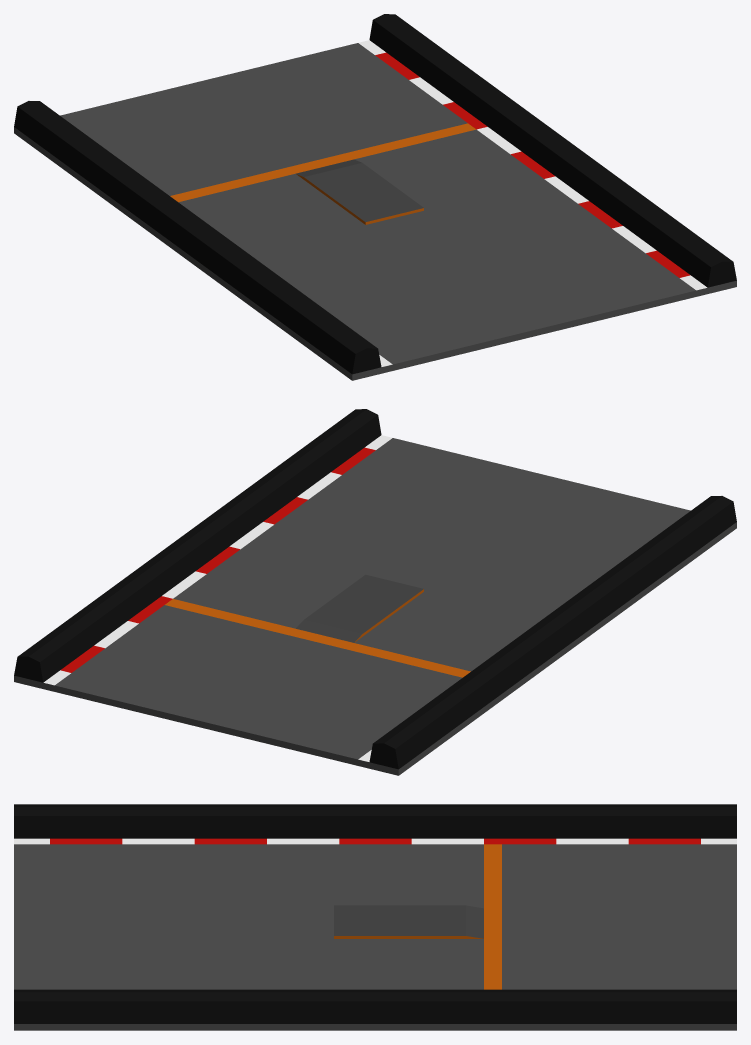
The model's file is start.obj.
3 views of the same model, one above another, from view 1: azimuth 30°, elevation 25°; view 2: azimuth 150°, elevation 25°; view 3: azimuth 270°, elevation 25° (orthographic). The views are drawn at different scales.
Visible parts, largest first — view 1: Start_Plane.002; view 2: Start_Plane.002; view 3: Start_Plane.002.
Boxes of the visible parts, <box> form: Start_Plane.002: <box>14,14,736,380</box>; Start_Plane.002: <box>14,409,736,775</box>; Start_Plane.002: <box>14,804,736,1030</box>.
Bounding box in the file's own units: 13.13 × 0.9427 × 20.
